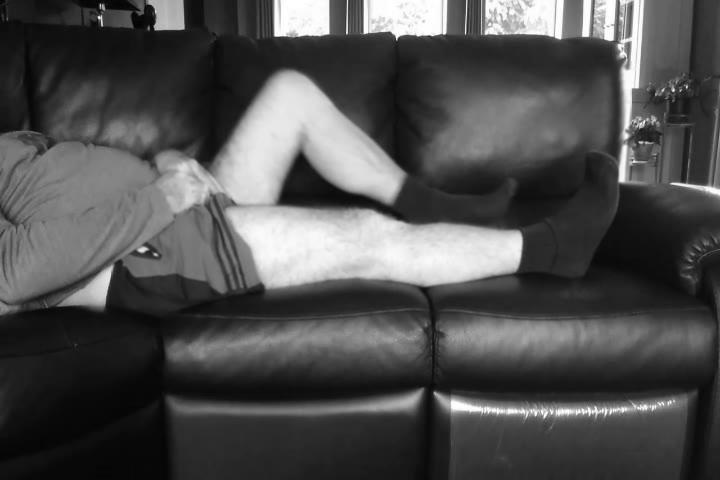lower_body: (112, 62, 633, 332)
